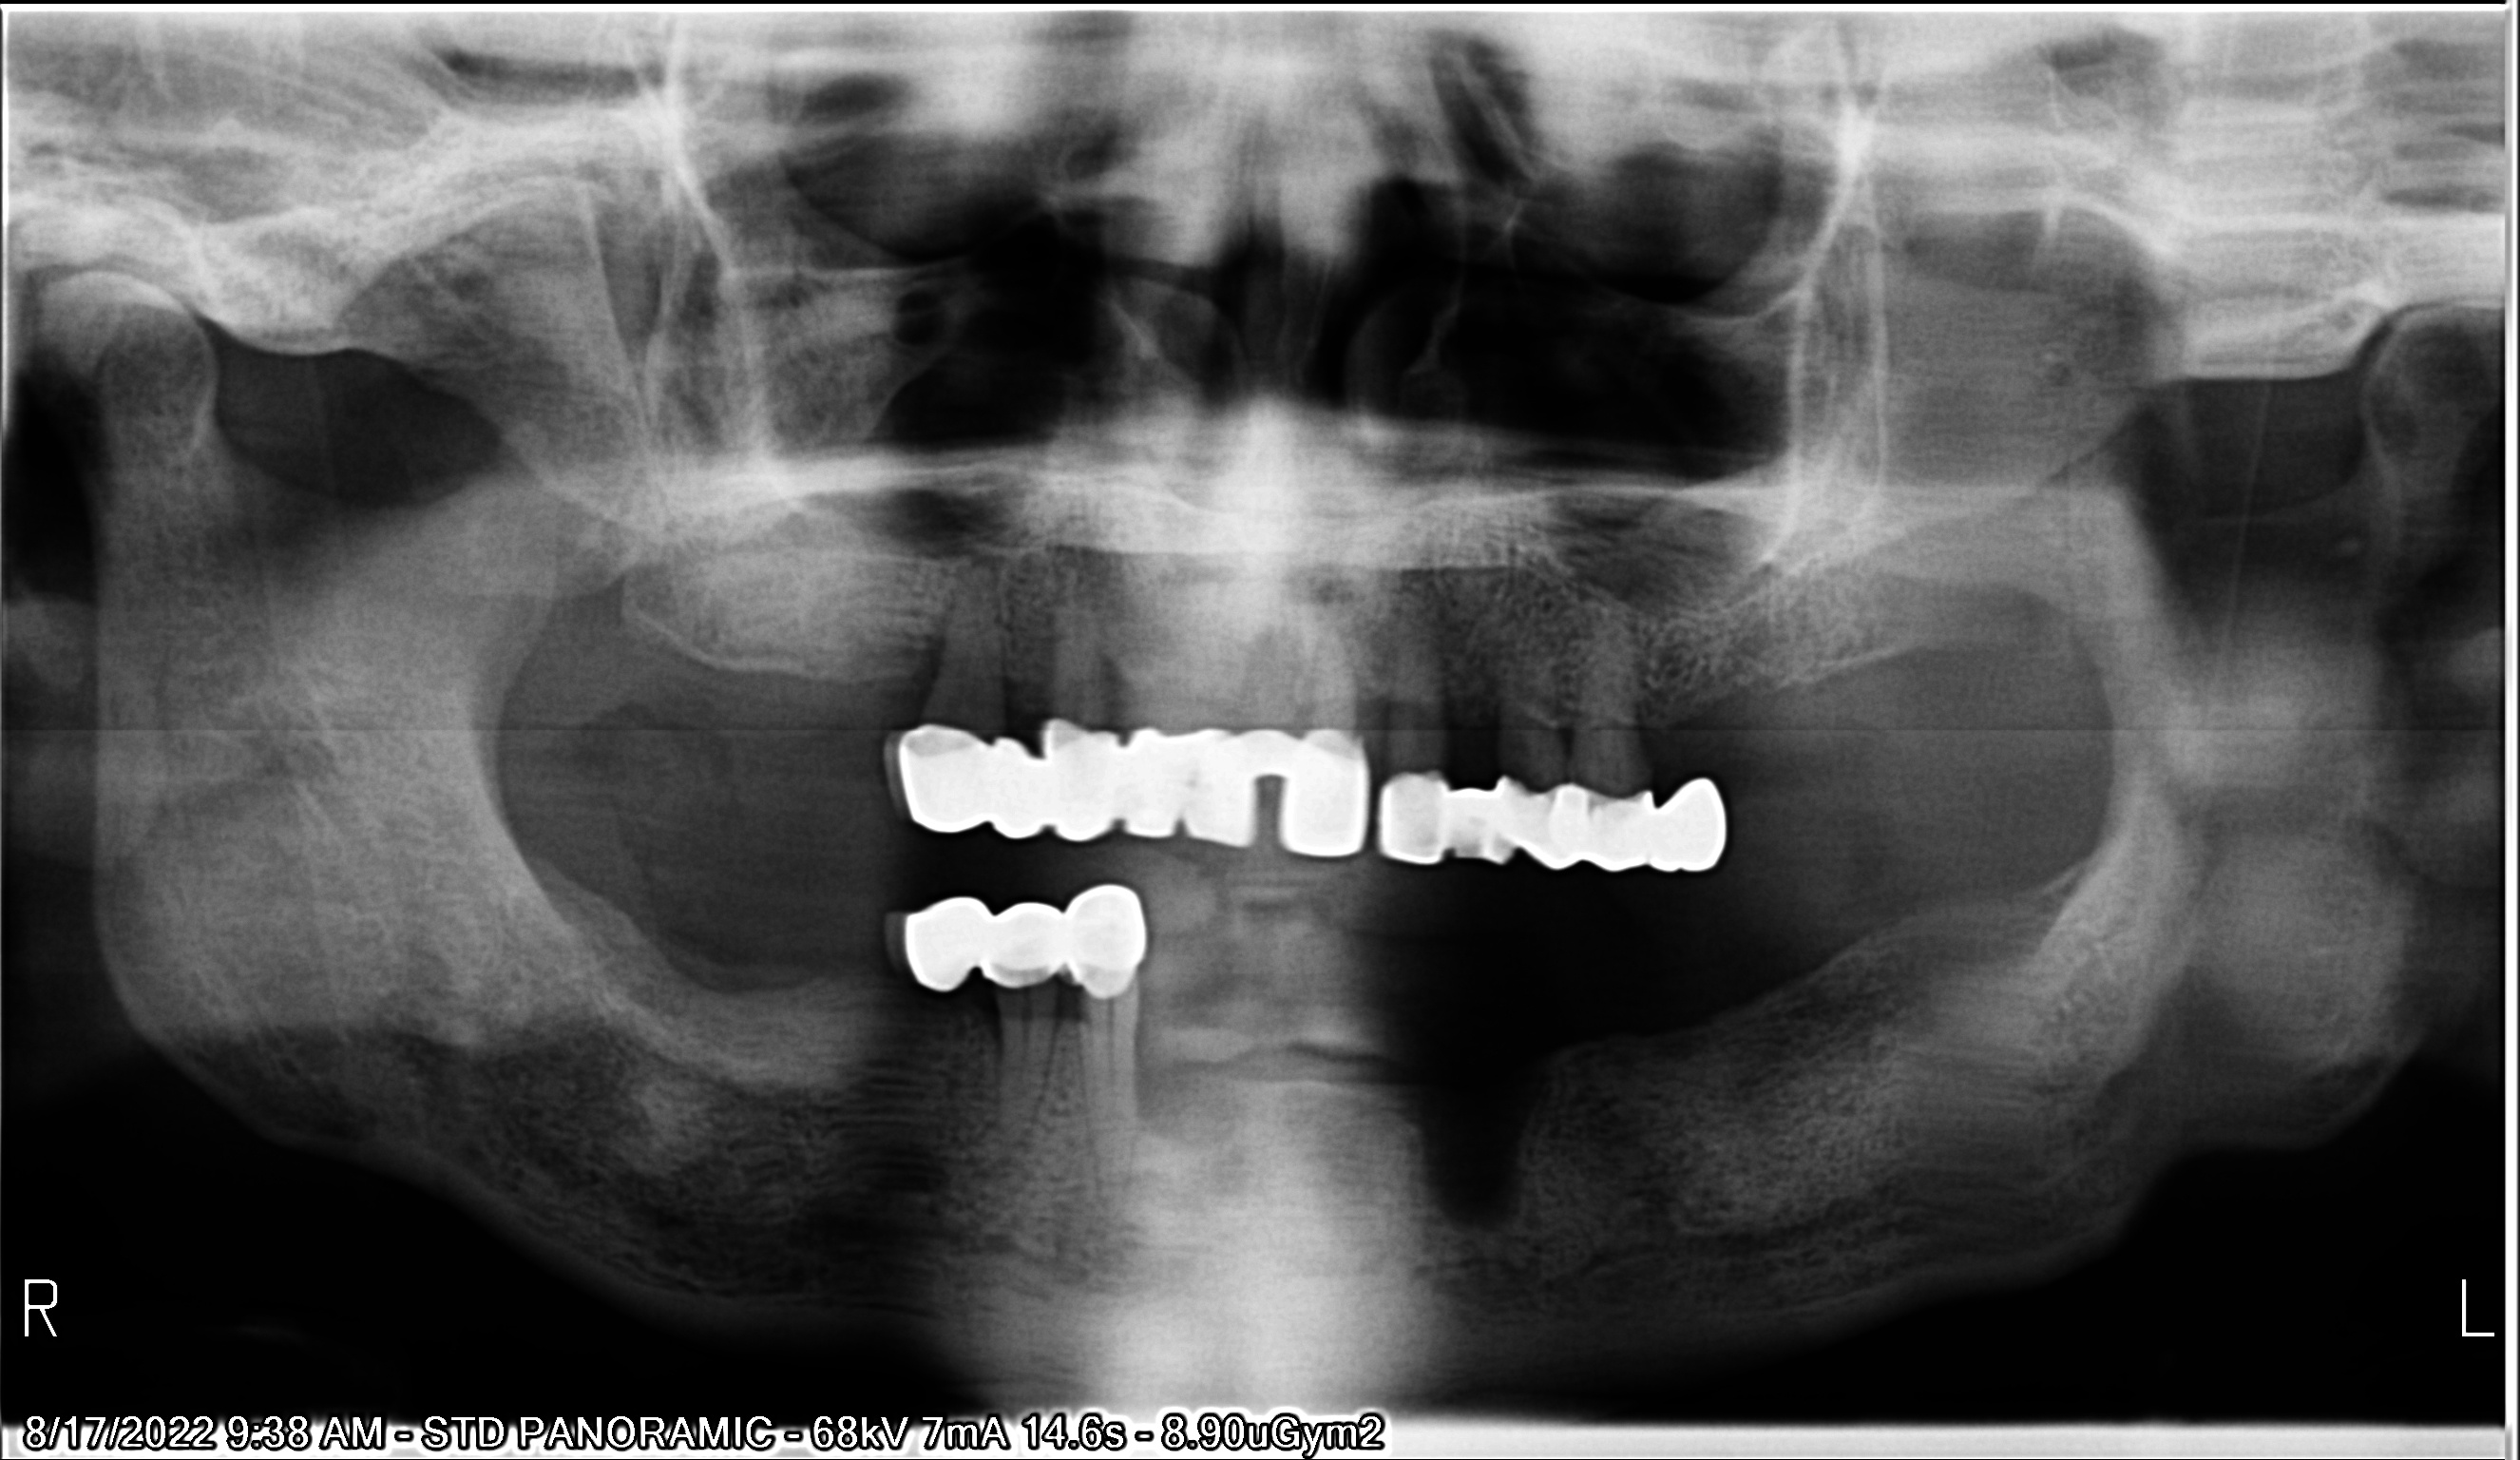PRR: (834, 699, 1374, 871), (1362, 756, 1754, 892), (877, 869, 1145, 1010)
